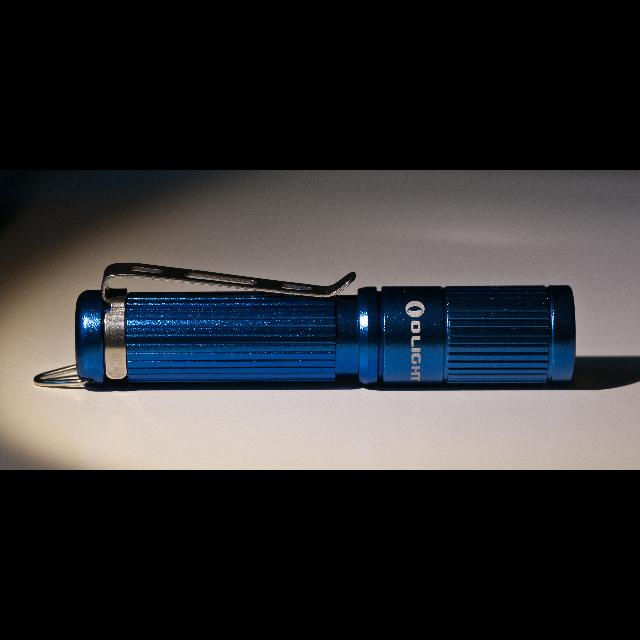Flashlight: (28, 256, 582, 398)
